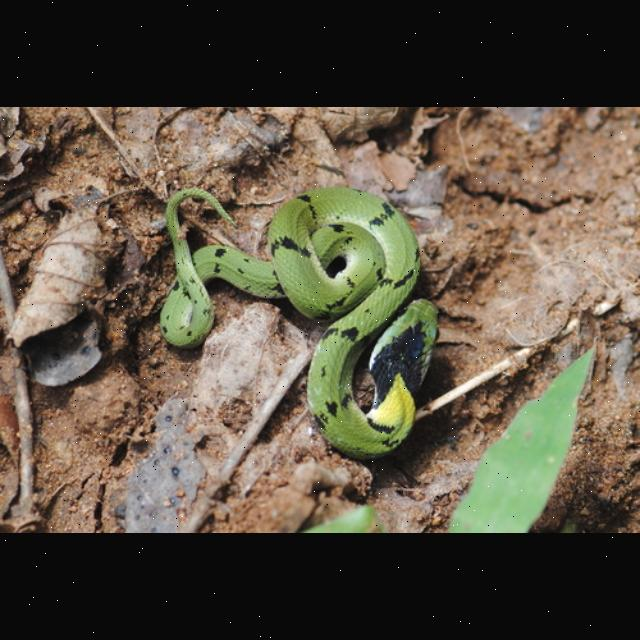snake: (158, 174, 428, 460)
